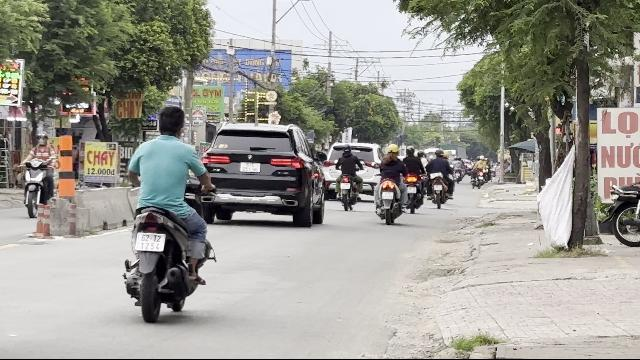licenseplate: (136, 233, 164, 251)
motorcyclist: (119, 97, 218, 322)
nohelmet: (154, 105, 186, 139)
